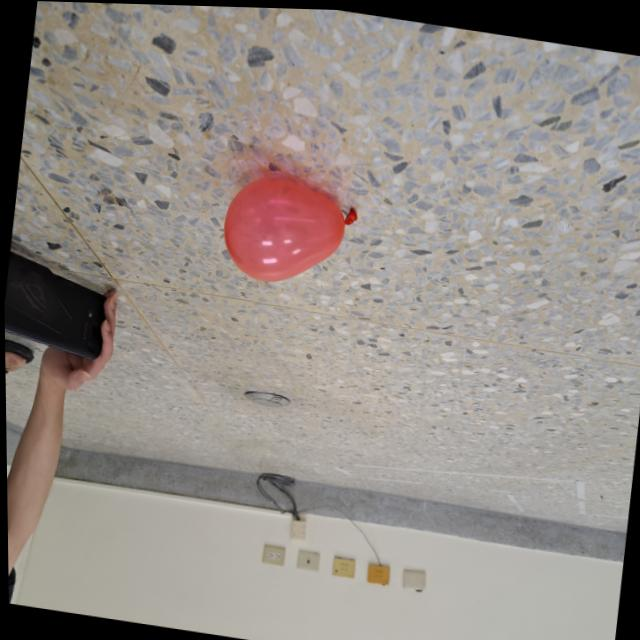red: (216, 167, 364, 295)
